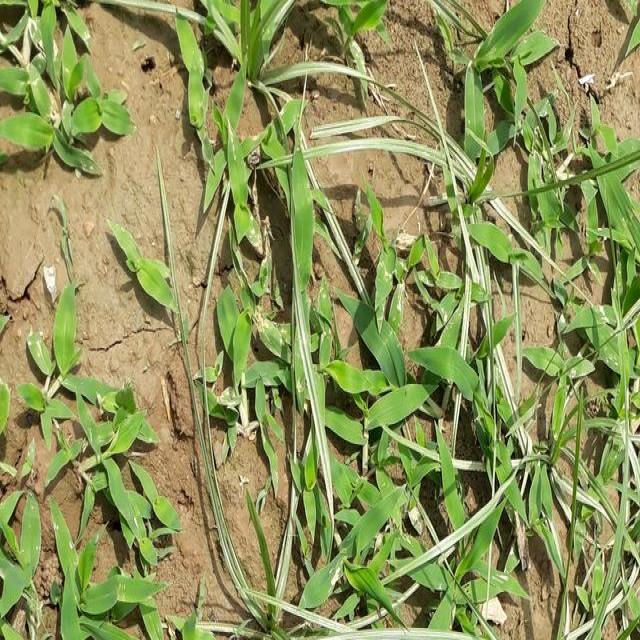weed: (163, 172, 639, 640), (148, 5, 346, 146)
